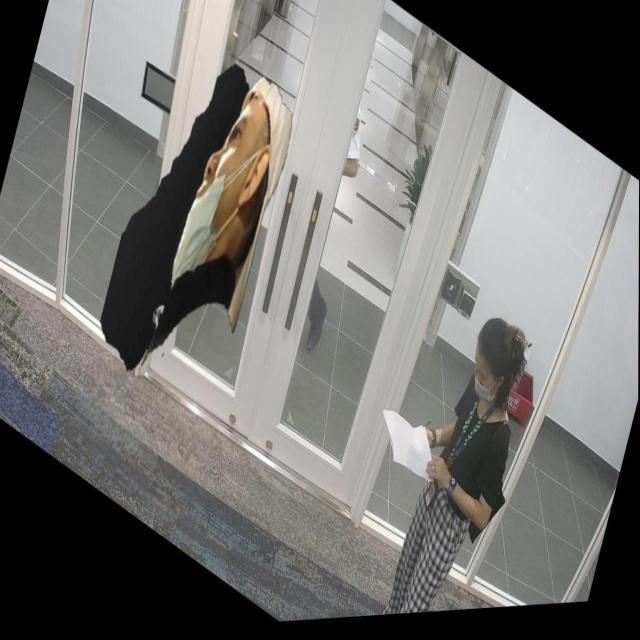hairnet: (165, 82, 257, 313)
